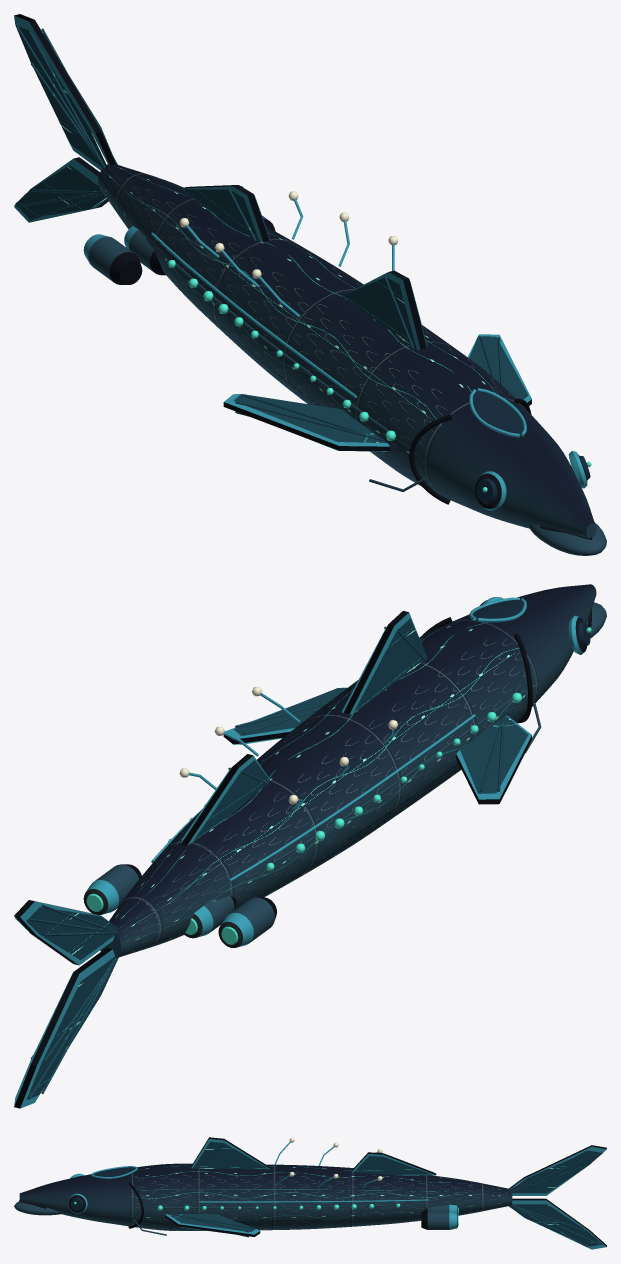
The picture shows the model from 3 angles, top to bottom: view 1: azimuth 30°, elevation 25°; view 2: azimuth 150°, elevation 25°; view 3: azimuth 270°, elevation 25°; orthographic projection. The views are drawn at different scales.
Parts seen in each view (by area): view 1: barracuda_hull; view 2: barracuda_hull; view 3: barracuda_hull.
Boxes of the visible parts, box(x1,y1,x2,y2) form: barracuda_hull: box(14, 14, 606, 555); barracuda_hull: box(14, 584, 606, 1108); barracuda_hull: box(14, 1137, 606, 1249).
Size of the model in its own units: 10.99 by 8.25 by 40.
1 material, 1 textured.
